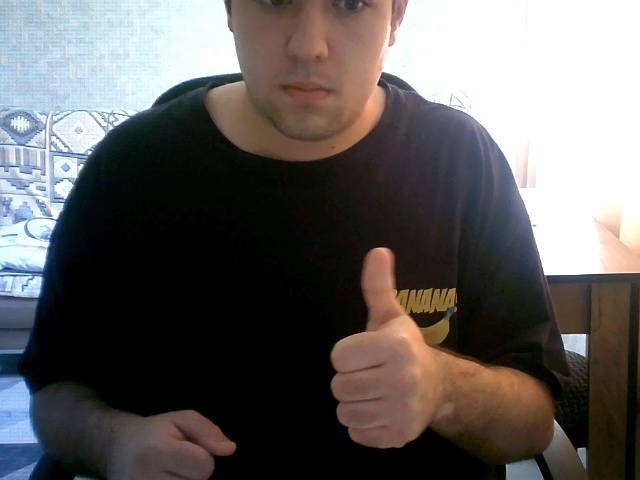good: (299, 230, 463, 457)
